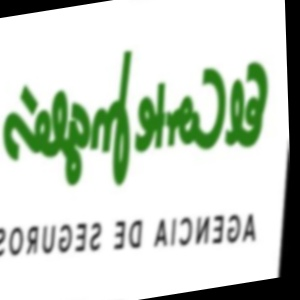corte_ingles: (260, 0, 282, 57)
